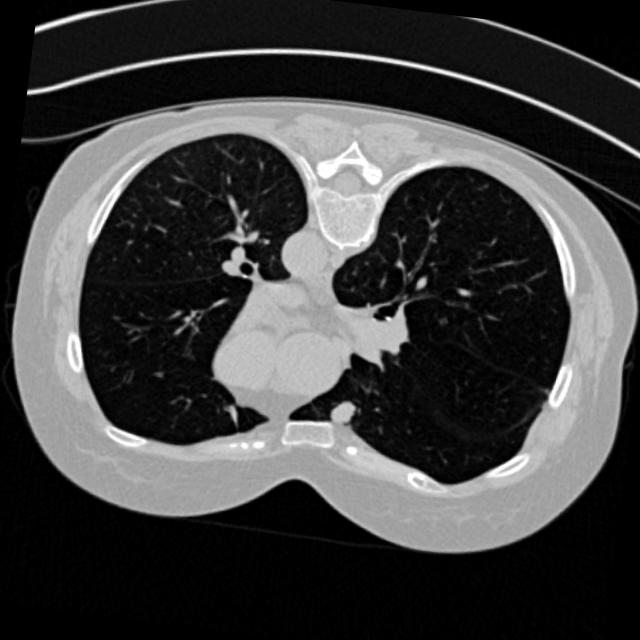nodule: (315, 384, 371, 440)
